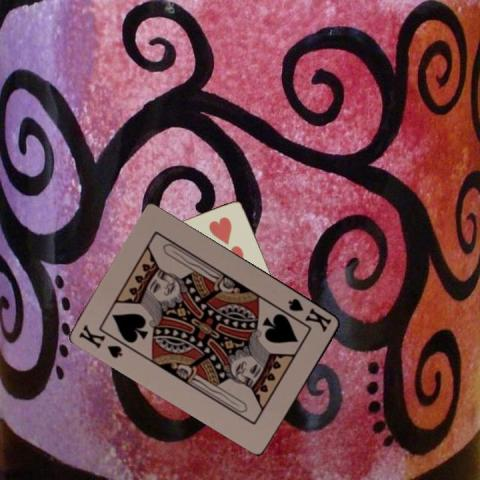Ks: (76, 321, 125, 360), (286, 295, 334, 334)
